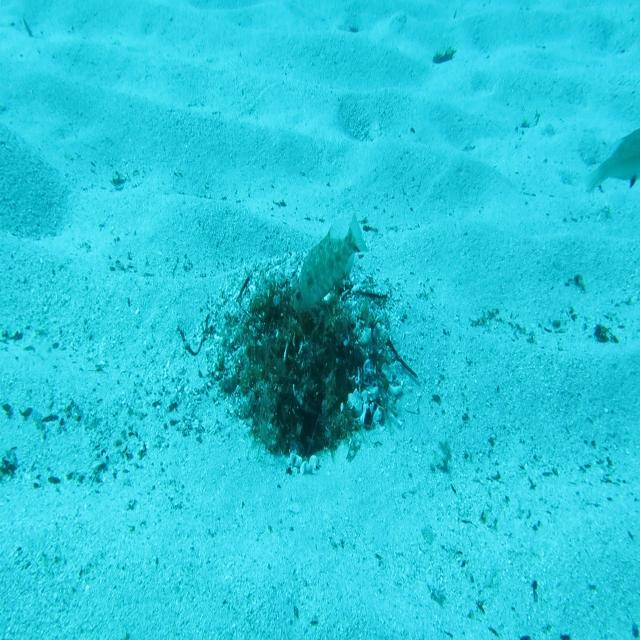INSF: (288, 205, 371, 317)
core_nest: (276, 302, 326, 341)
female: (577, 124, 640, 203)
nest: (203, 254, 408, 484)
vegetation: (430, 42, 457, 66)
